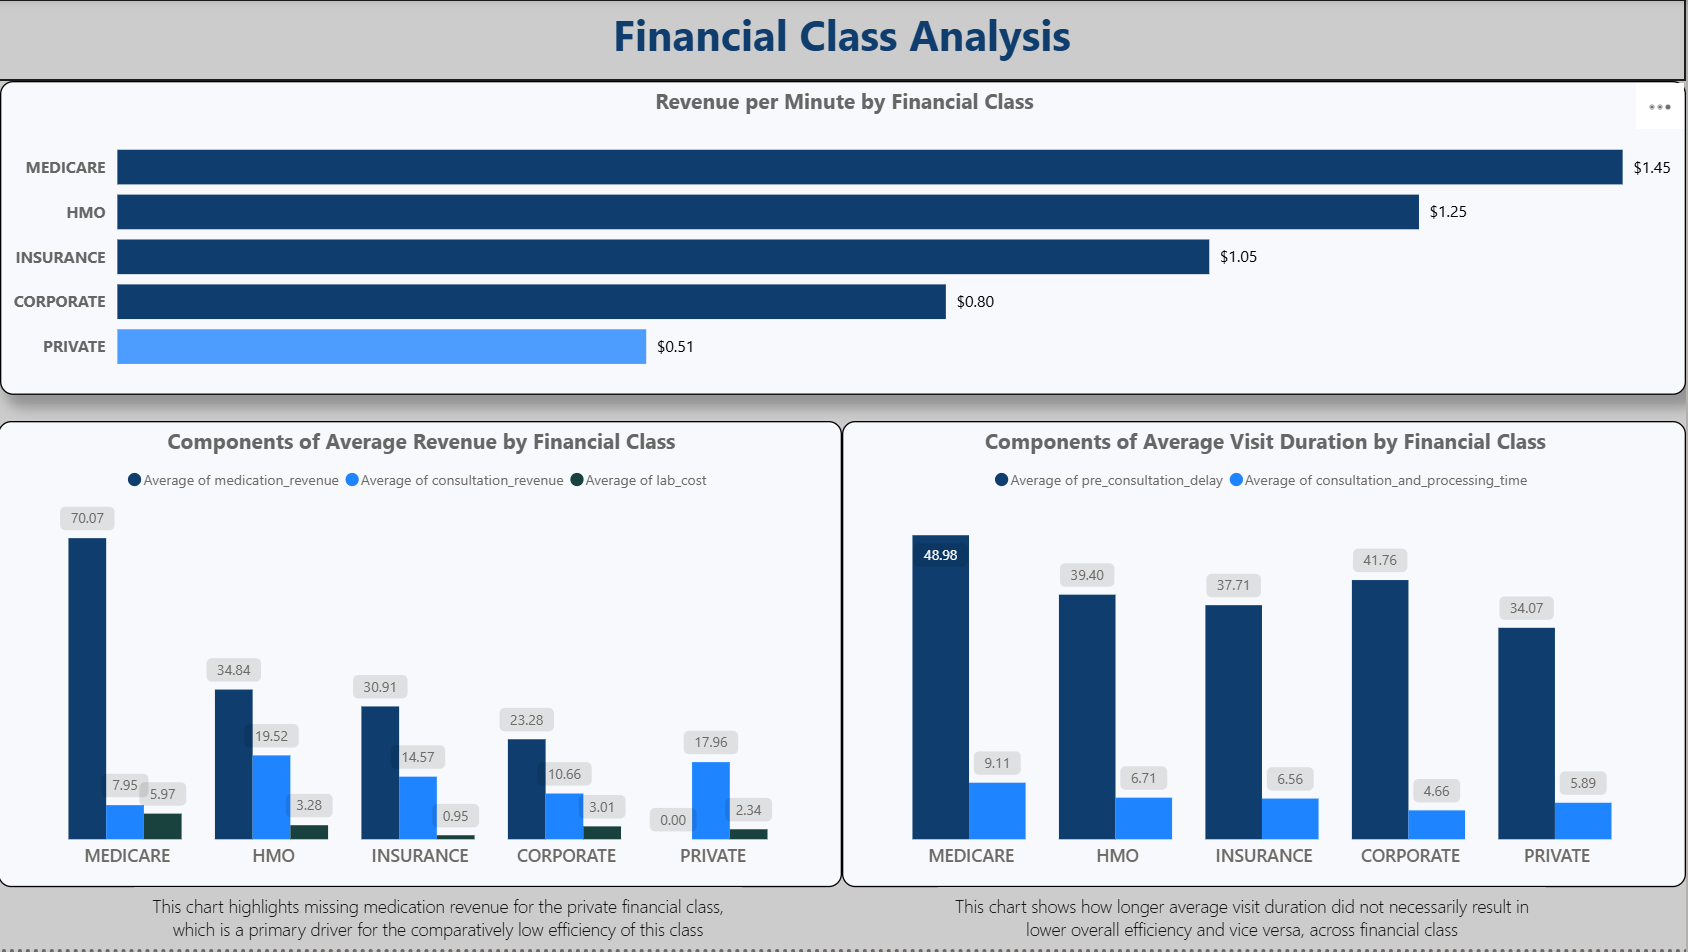

This screenshot's page, from the dashboard's own definition file:
{"tool":"powerbi","page":{"name":"Financial Class Analysis","canvas":[1280,720],"ordinal":1},"visuals":[{"type":"clusteredBarChart","title":"Revenue per Minute by Financial Class","fields":{"Y":["🧹hospital_efficiency.Revenue per Minute"],"Category":["FinancialClassSort.Financial_class"]},"box":[1.5,62.2,1278.5,238.1],"z":0},{"type":"textbox","box":[0,0,1280,62.2],"z":1000},{"type":"clusteredColumnChart","title":"Components of Average Revenue by Financial Class","fields":{"Y":["Avg(🧹hospital_efficiency.medication_revenue)","Avg(🧹hospital_efficiency.consultation_revenue)","Avg(🧹hospital_efficiency.lab_cost)"],"Category":["FinancialClassSort.Financial_class"]},"box":[0,320,640,353.4],"z":2000},{"type":"clusteredColumnChart","title":"Components of Average Visit Duration by Financial Class","fields":{"Y":["Avg(🧹hospital_efficiency.pre_consultation_delay)","Avg(🧹hospital_efficiency.consultation_and_processing_time)"],"Category":["FinancialClassSort.Financial_class"]},"box":[640,320,640,353.4],"z":3000},{"type":"textbox","box":[103.1,673.4,461,47],"z":4000},{"type":"textbox","box":[712.8,673.4,461,48.5],"z":5000}]}

Visuals, with their boxes in screenshot pixels (x1, y1, x2, y2), scaled from the page's 1280x720 canvas onto the 1688x952 screenshot:
"Revenue per Minute by Financial Class" clusteredBarChart: bbox(2, 82, 1687, 397)
textbox: bbox(0, 0, 1687, 82)
"Components of Average Revenue by Financial Class" clusteredColumnChart: bbox(0, 423, 844, 890)
"Components of Average Visit Duration by Financial Class" clusteredColumnChart: bbox(844, 423, 1687, 890)
textbox: bbox(136, 890, 744, 951)
textbox: bbox(940, 890, 1548, 951)
